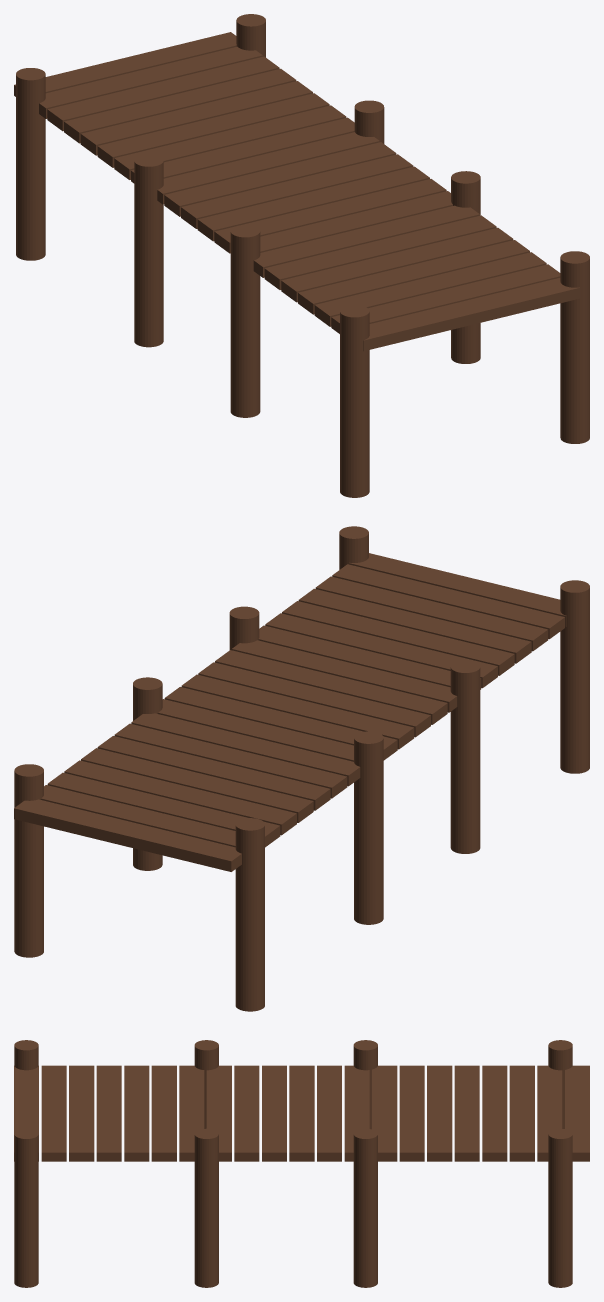
File: M_020.Jetty.fbx
The picture shows the model from 3 angles, top to bottom: view 1: azimuth 30°, elevation 25°; view 2: azimuth 150°, elevation 25°; view 3: azimuth 270°, elevation 25°; orthographic projection. The views are drawn at different scales.
Parts seen in each view (by area): view 1: Cube.003; view 2: Cube.003; view 3: Cube.003.
Part boxes in pixels (x1=…): Cube.003: x1=14, y1=14, x2=589, y2=497; Cube.003: x1=14, y1=526, x2=589, y2=1011; Cube.003: x1=14, y1=1040, x2=589, y2=1287.
Size of the model in its own units: 550 by 385 by 1352.
